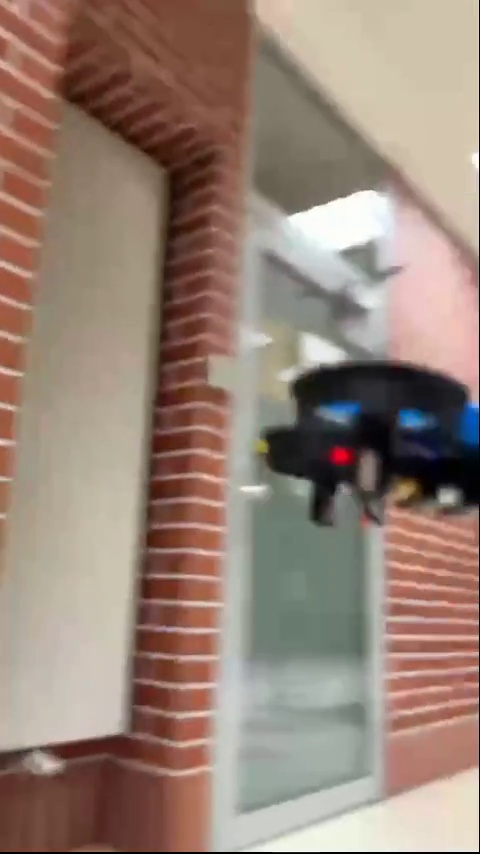drone: (258, 362, 480, 522)
